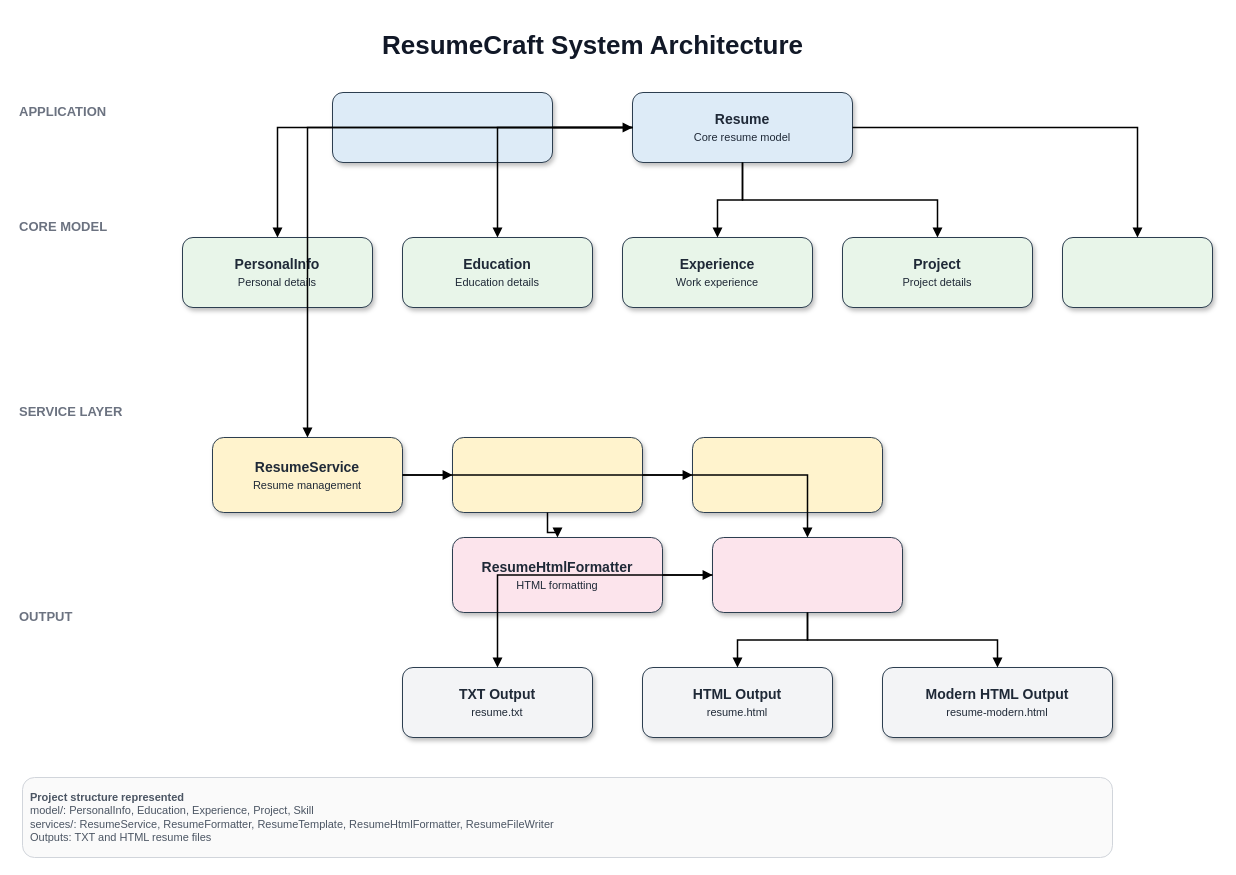
This 1236x875 diagram has some shape labels left out. The centre of each missing label's shape, as x and y in pixels:
"Main Application entry point" goes at [443,129].
"ResumeFileWriter File export" goes at [808,576].
"ResumeFormatter Resume formatting" goes at [548,476].
"ResumeTemplate Resume templates" goes at [788,476].
"Skill Skills information" goes at [1138,273].
